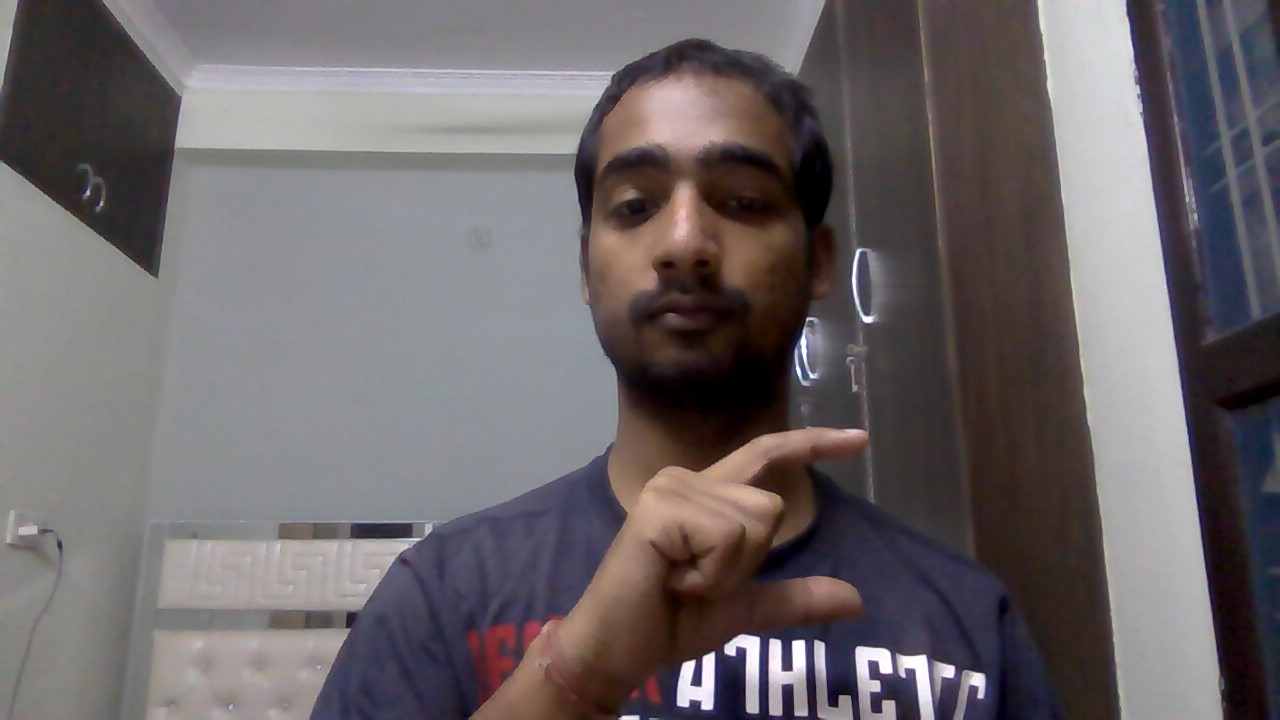Paste: (577, 411, 883, 694)
